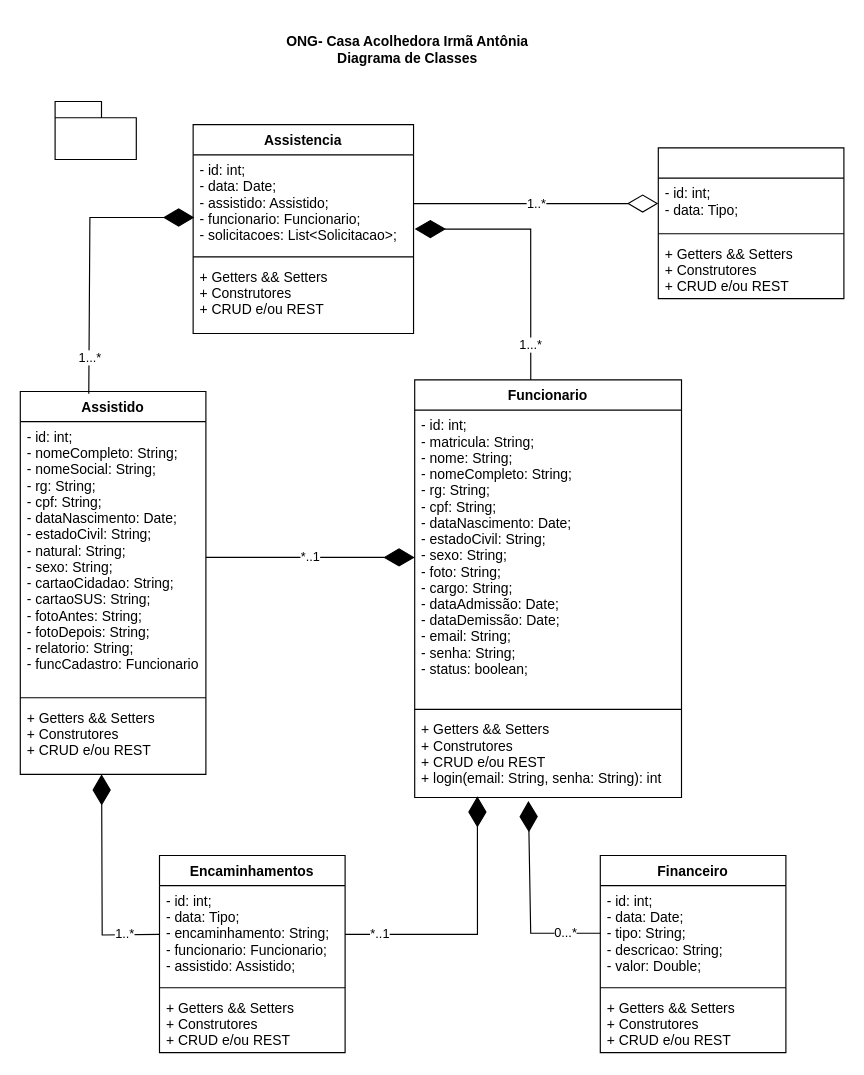
Some shapes in this 864 by 1075 pixel diagram are drawn without their labels. The box of each missing label's shape, as (x1, y1, x2, y2) in pixels:
model: (54, 100, 136, 160)
Solicitacao: (657, 147, 844, 299)
